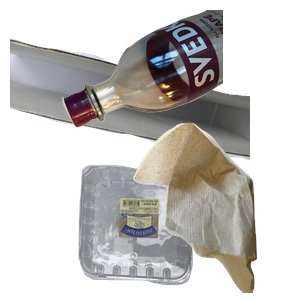cardboard: (10, 35, 250, 188)
glass: (60, 10, 300, 130)
plastic: (76, 162, 264, 300)
trash: (131, 120, 300, 300)
